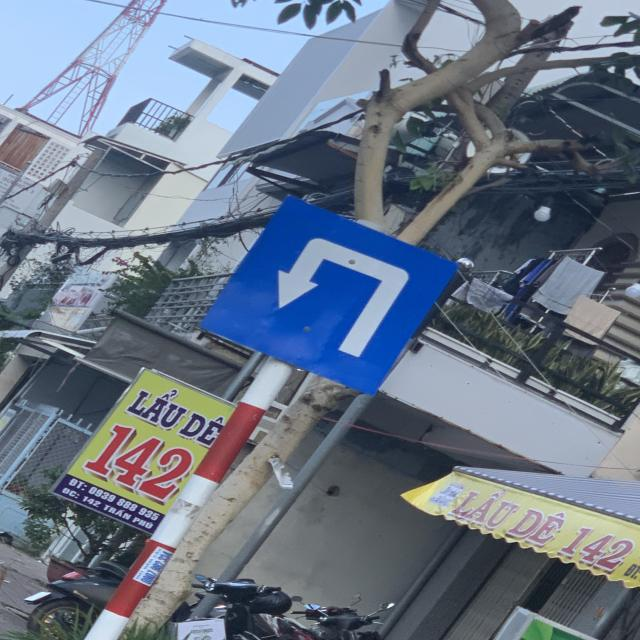Den_Giao_Thong: (207, 200, 459, 390)
